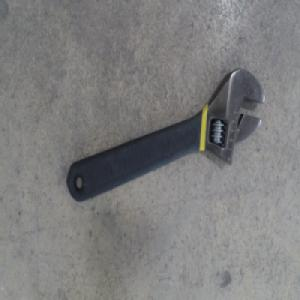AdjustableWrench: (66, 70, 263, 205)
